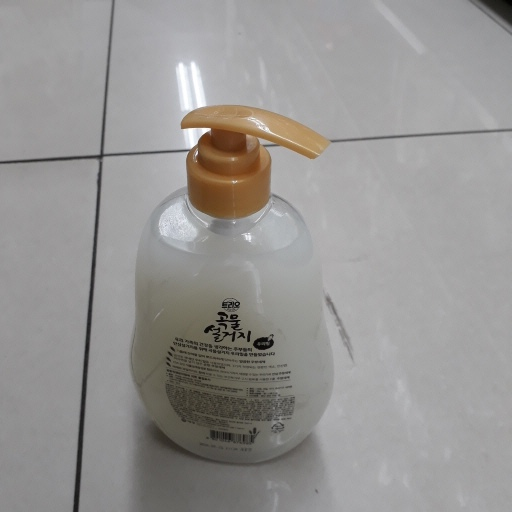Plastic_3: (128, 103, 340, 466)
